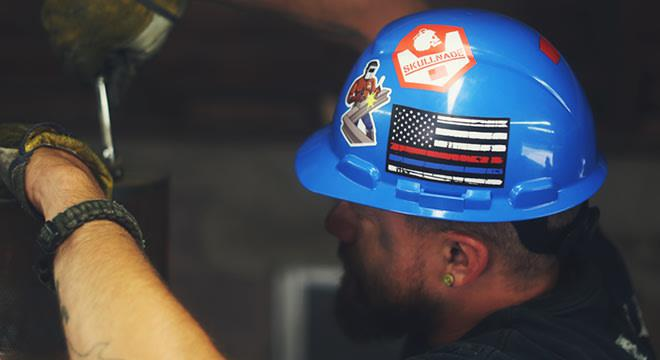hardhat: (290, 9, 612, 225)
worker: (291, 8, 656, 360)
